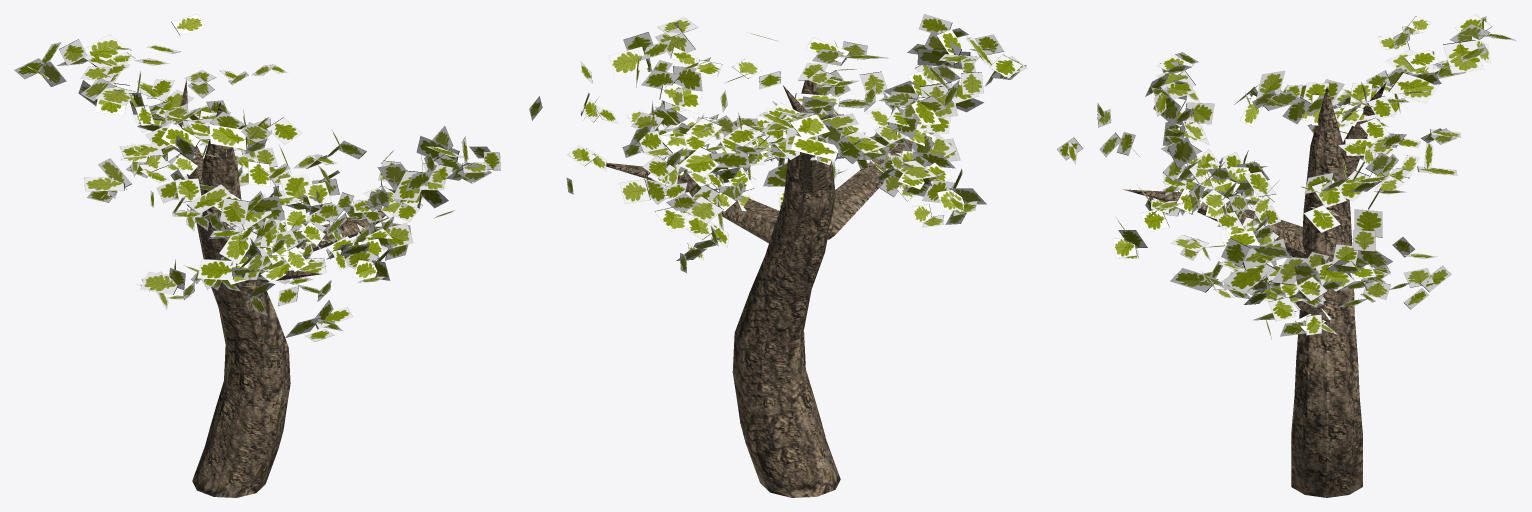
Rendered from OakTree1_LOD2.FBX.
The picture shows the model from 3 angles, left to right: view 1: azimuth 30°, elevation 25°; view 2: azimuth 150°, elevation 25°; view 3: azimuth 270°, elevation 25°; orthographic projection. The views are drawn at different scales.
Visible parts, largest first — view 1: Leaf_672, Cylinder073, Galaz3; view 2: Leaf_672, Cylinder073, Galaz2, Galaz3, Galaz1; view 3: Leaf_672, Cylinder073, Galaz2, Galaz1.
Boxes of the visible parts, bbox=[...] form: Leaf_672: bbox=[14, 14, 500, 341]; Cylinder073: bbox=[192, 102, 290, 497]; Galaz3: bbox=[300, 210, 385, 251]; Leaf_672: bbox=[529, 14, 1027, 272]; Cylinder073: bbox=[732, 63, 840, 497]; Galaz2: bbox=[827, 140, 912, 239]; Galaz3: bbox=[606, 162, 779, 243]; Galaz1: bbox=[783, 85, 827, 196]; Leaf_672: bbox=[1056, 14, 1516, 339]; Cylinder073: bbox=[1291, 86, 1362, 497]; Galaz2: bbox=[1123, 189, 1306, 257]; Galaz1: bbox=[1343, 81, 1386, 177].
Bounding box in the file's own units: 574 × 608 × 569.
Materials: 3 (3 with a texture image).
